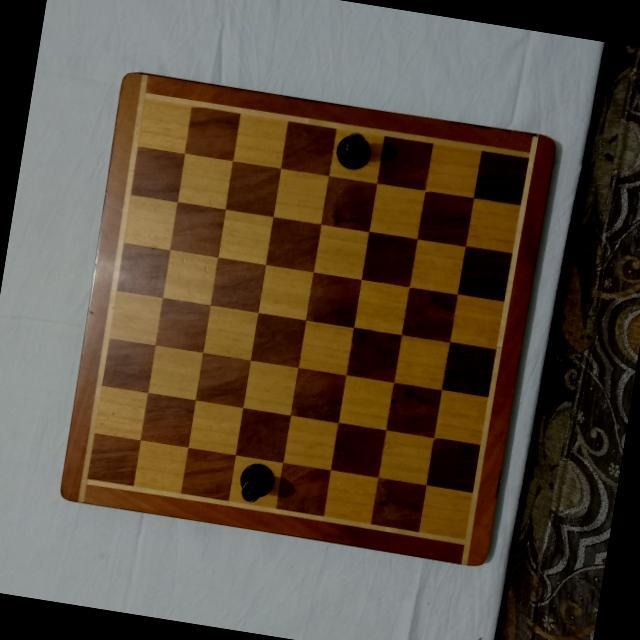black-bishop: (235, 457, 276, 504), (332, 129, 375, 171)
